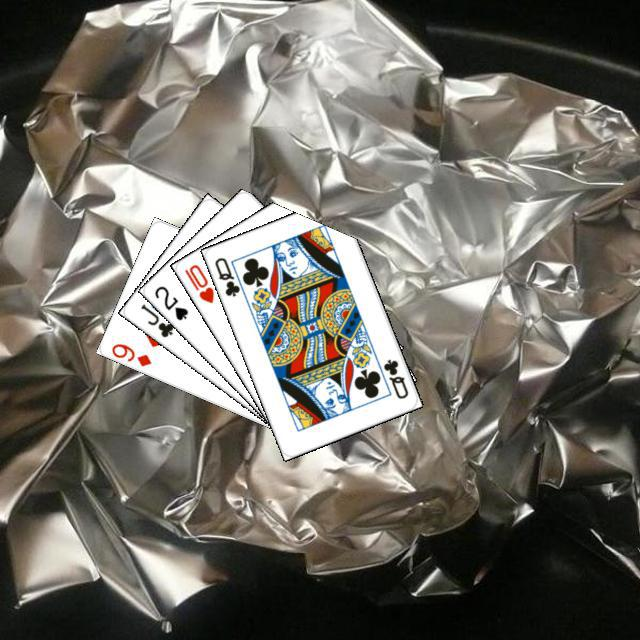10h: (179, 259, 216, 305)
2s: (150, 281, 190, 322)
9d: (107, 338, 153, 368)
Jc: (136, 299, 175, 339)
Qc: (210, 252, 248, 299), (378, 354, 410, 400)
